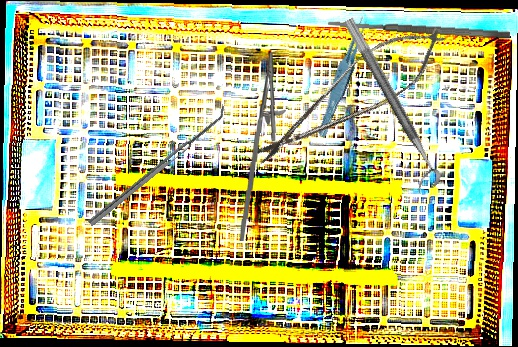Fixation Ring: (328, 16, 445, 195)
Micro Scissor: (243, 10, 457, 183)
Needle Holder: (238, 52, 289, 243)
Spatula Surgical: (83, 103, 231, 227), (327, 17, 511, 41)
Tissue Forceps: (309, 13, 378, 139)
